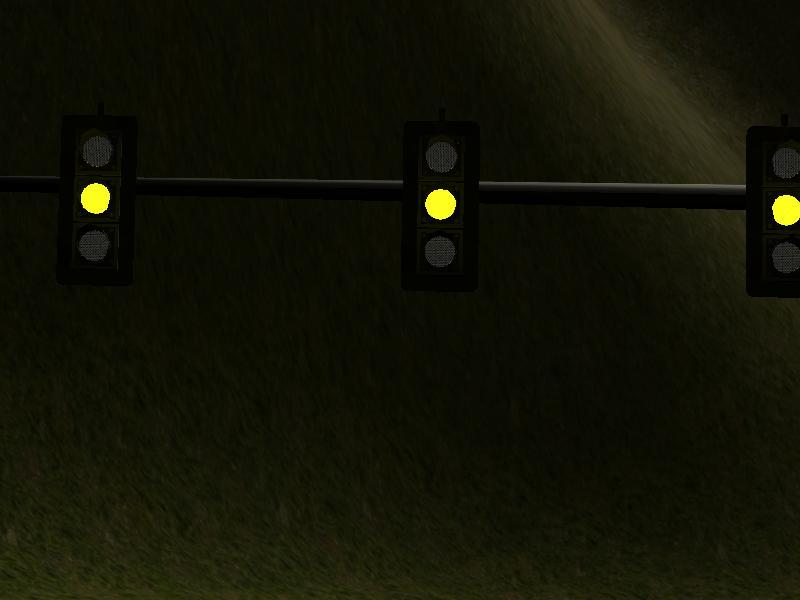Yellow: (403, 120, 479, 293), (58, 116, 135, 286), (746, 127, 800, 299)
